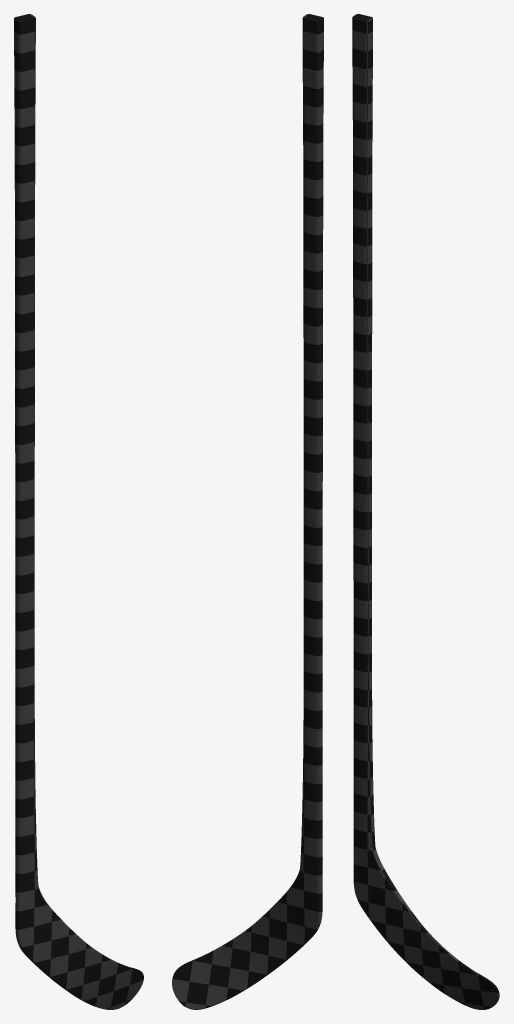
File: P73M-SBO.glb
3 views of the same model, side by side, from view 1: azimuth 30°, elevation 25°; view 2: azimuth 150°, elevation 25°; view 3: azimuth 330°, elevation 25° (orthographic). The views are drawn at different scales.
Visible parts, largest first — view 1: geometry_0; view 2: geometry_0; view 3: geometry_0.
Part boxes in pixels (<box>): geometry_0: <box>14,14,143,1009</box>; geometry_0: <box>172,14,323,1009</box>; geometry_0: <box>352,14,499,1009</box>.
Bounding box in the file's own units: 235 × 1650 × 55.62.
1 material, 1 textured.
